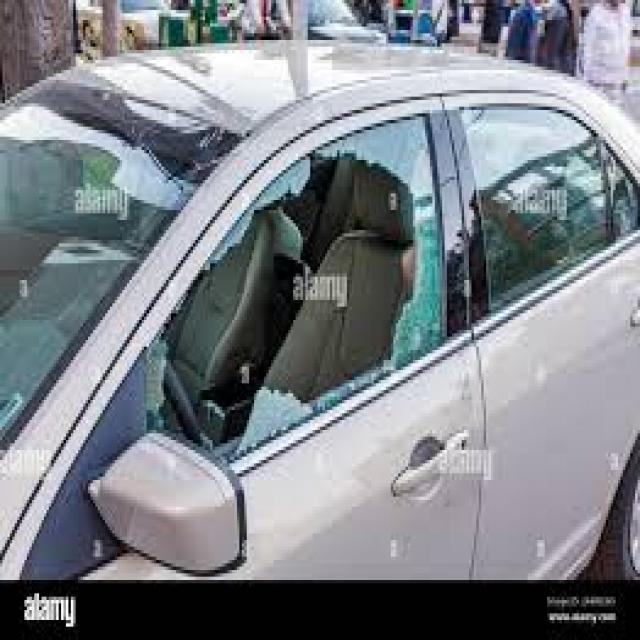damaged-window: (143, 92, 454, 478)
